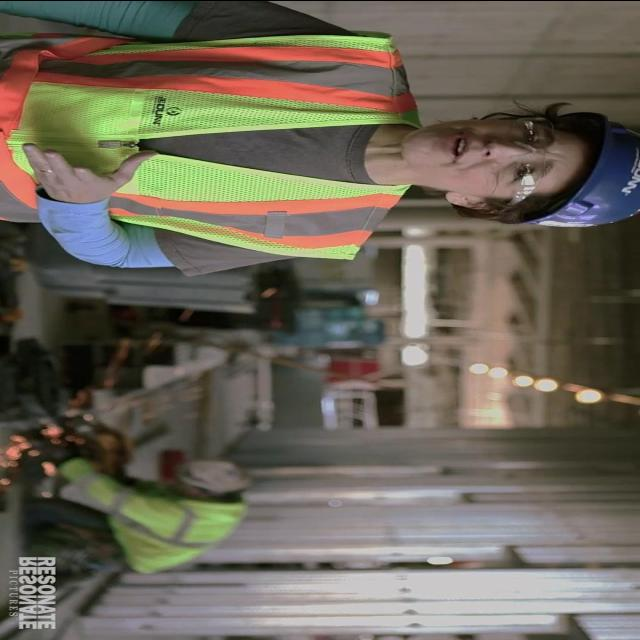helmet: (508, 95, 640, 247), (167, 450, 259, 499)
jacket: (0, 10, 433, 264)
